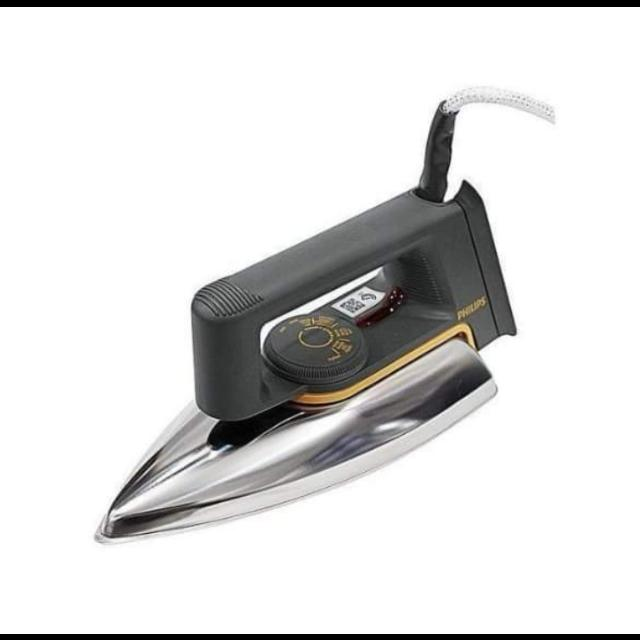Clothes-Iron: (90, 84, 560, 556)
